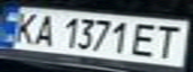1: (109, 19, 133, 55), (57, 15, 81, 49)
3: (75, 16, 96, 51)
7: (90, 17, 112, 53)
A: (30, 11, 60, 47)
E: (127, 20, 163, 58)
K: (6, 9, 42, 45)
T: (148, 21, 187, 60)
